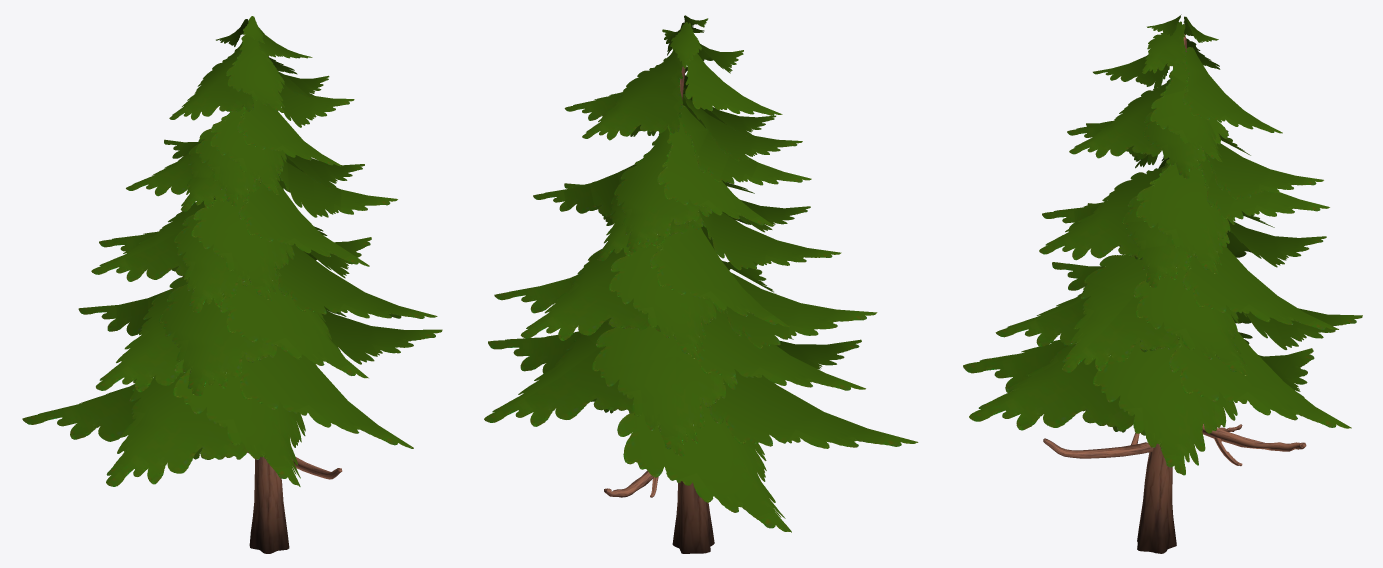
The model's file is qn-Pine_2.glb.
3 renders of one model, left to right at view 1: azimuth 30°, elevation 25°; view 2: azimuth 150°, elevation 25°; view 3: azimuth 270°, elevation 25°, orthographic. The views are drawn at different scales.
Visible parts, largest first — view 1: Pine_2; view 2: Pine_2; view 3: Pine_2.
Part boxes in pixels (x1=…): Pine_2: x1=22, y1=16, x2=442, y2=553; Pine_2: x1=484, y1=15, x2=918, y2=553; Pine_2: x1=963, y1=14, x2=1362, y2=553.
Size of the model in its own units: 5.73 by 7.38 by 5.22.
2 materials, 2 textured.
